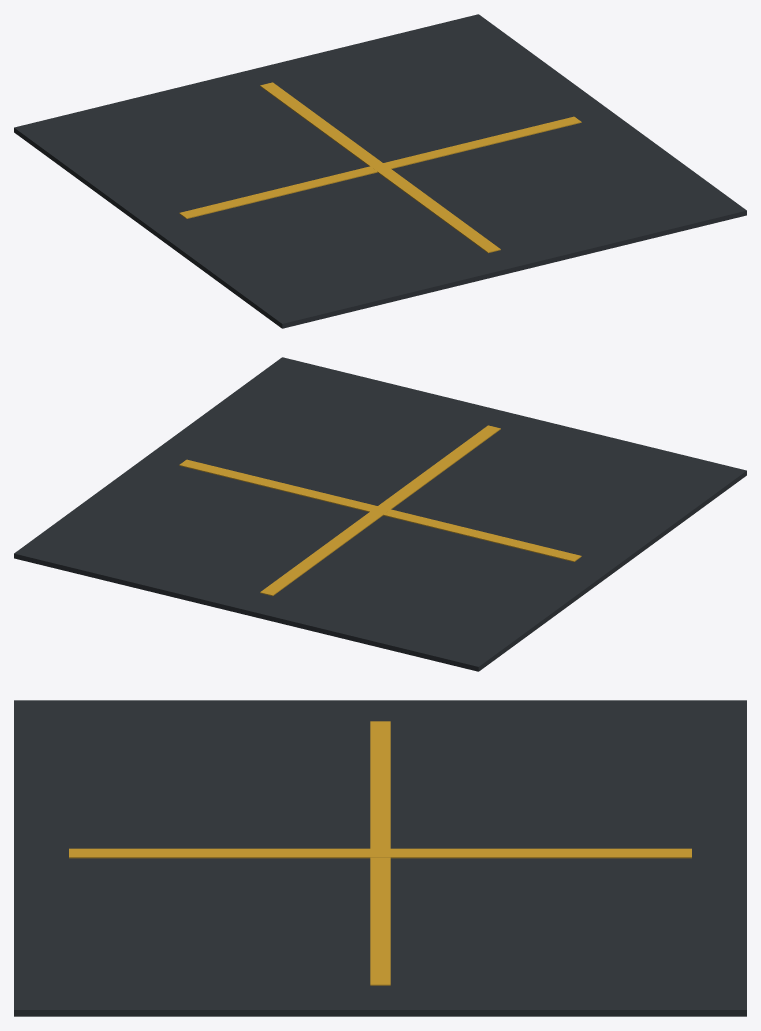
The model's file is floor.killhouse_tile_8x8.glb.
The picture shows the model from 3 angles, top to bottom: view 1: azimuth 30°, elevation 25°; view 2: azimuth 150°, elevation 25°; view 3: azimuth 270°, elevation 25°; orthographic projection. The views are drawn at different scales.
Visible parts, largest first — view 1: floor_slab, center_cross_a, center_cross_b; view 2: floor_slab, center_cross_a, center_cross_b; view 3: floor_slab, center_cross_b, center_cross_a.
Boxes of the visible parts, x1,y1,x2,y2 form: floor_slab: [14, 14, 746, 328]; center_cross_a: [179, 116, 581, 218]; center_cross_b: [260, 82, 500, 252]; floor_slab: [14, 357, 746, 671]; center_cross_a: [179, 459, 581, 561]; center_cross_b: [260, 425, 500, 595]; floor_slab: [14, 700, 746, 1016]; center_cross_b: [69, 848, 691, 858]; center_cross_a: [370, 721, 390, 985].
Size of the model in its own units: 8 by 0.108 by 8.
